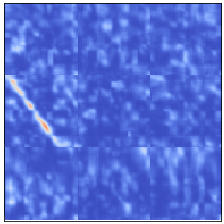action_path: (1, 75, 76, 149)
